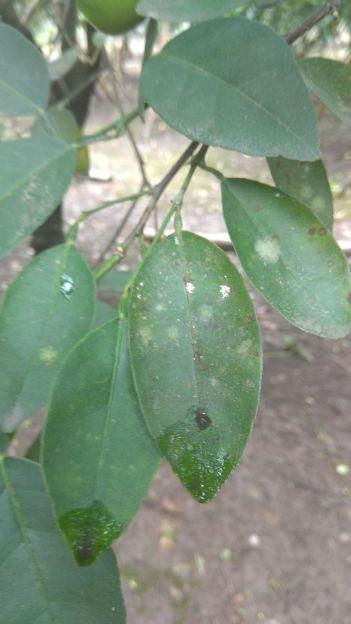Myzus persicae: (220, 285, 231, 297), (185, 280, 194, 293)
